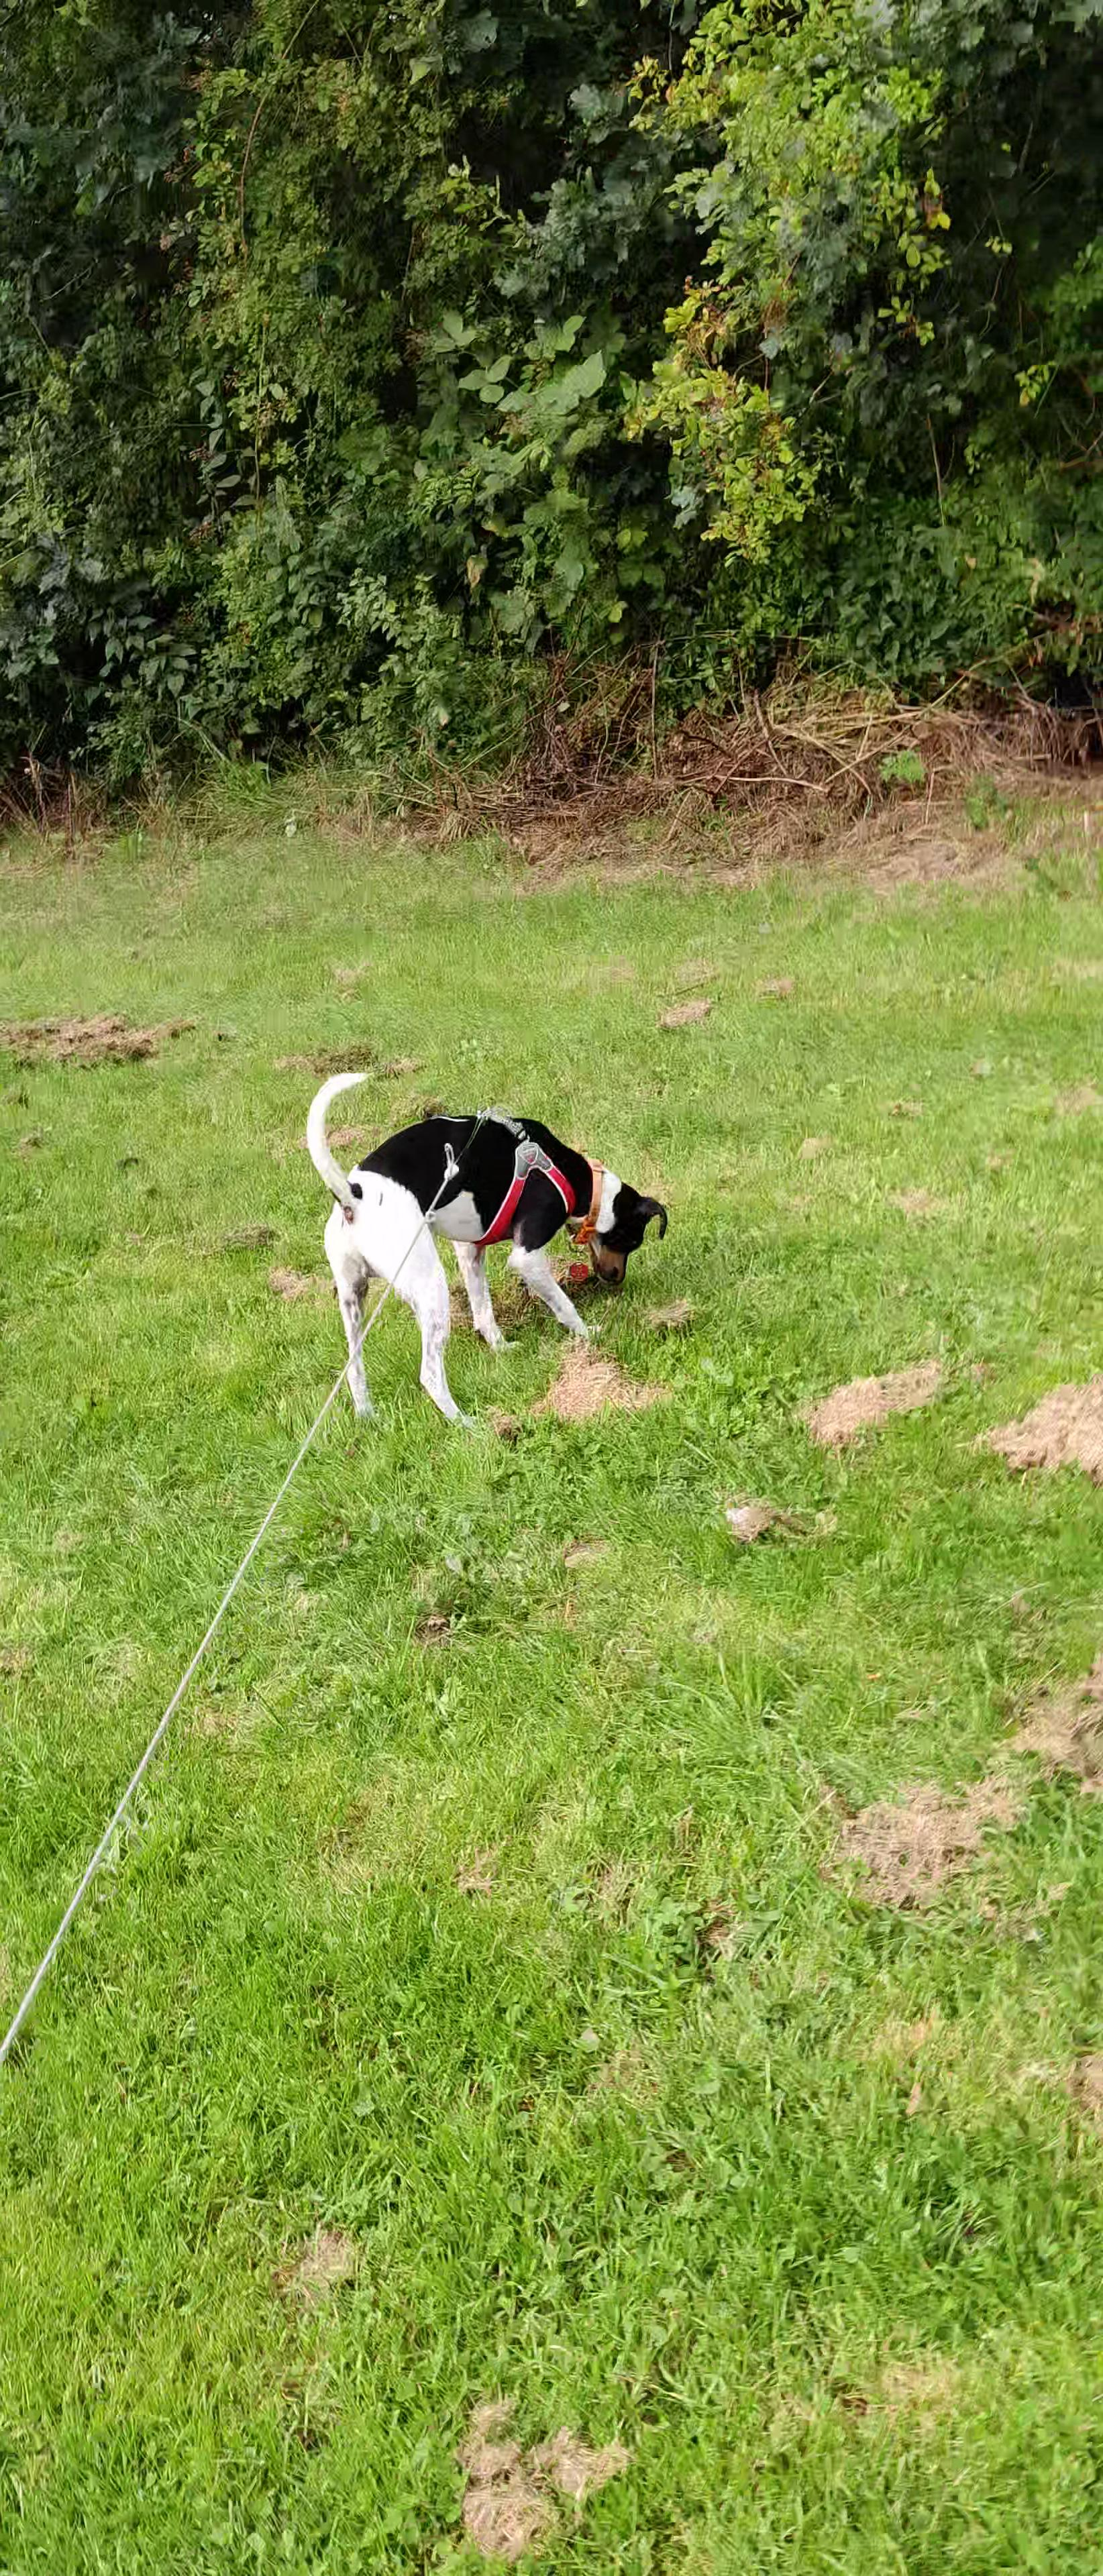Dog: (284, 1046, 690, 1441)
